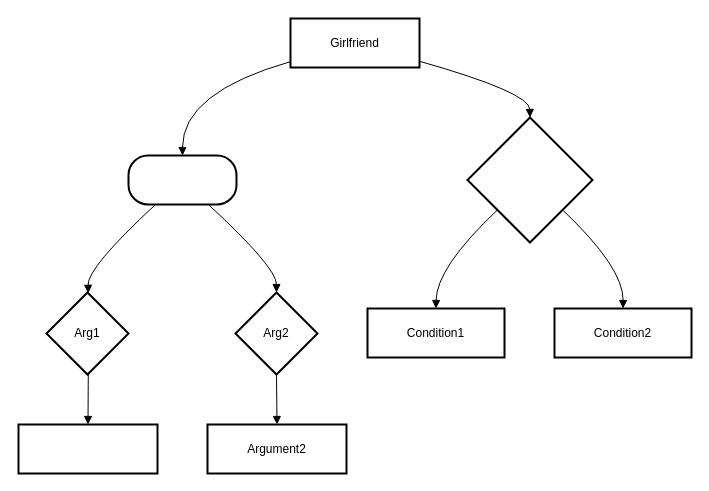
The diagram is 709 pixels wide and 491 high, and some of its shapes have lost their labels. Each missing label, with the centre of its shape:
Argument1: the point at 87,448
Arguments: the point at 182,179
Conditions: the point at 529,179
